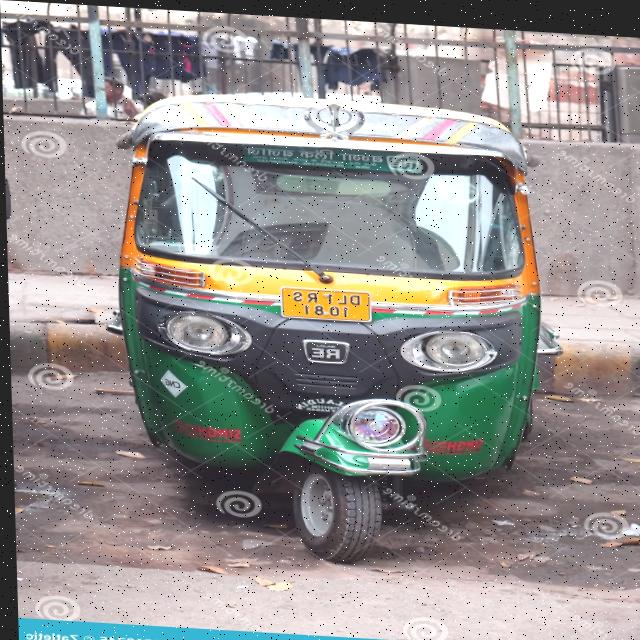plate: (271, 277, 376, 323)
